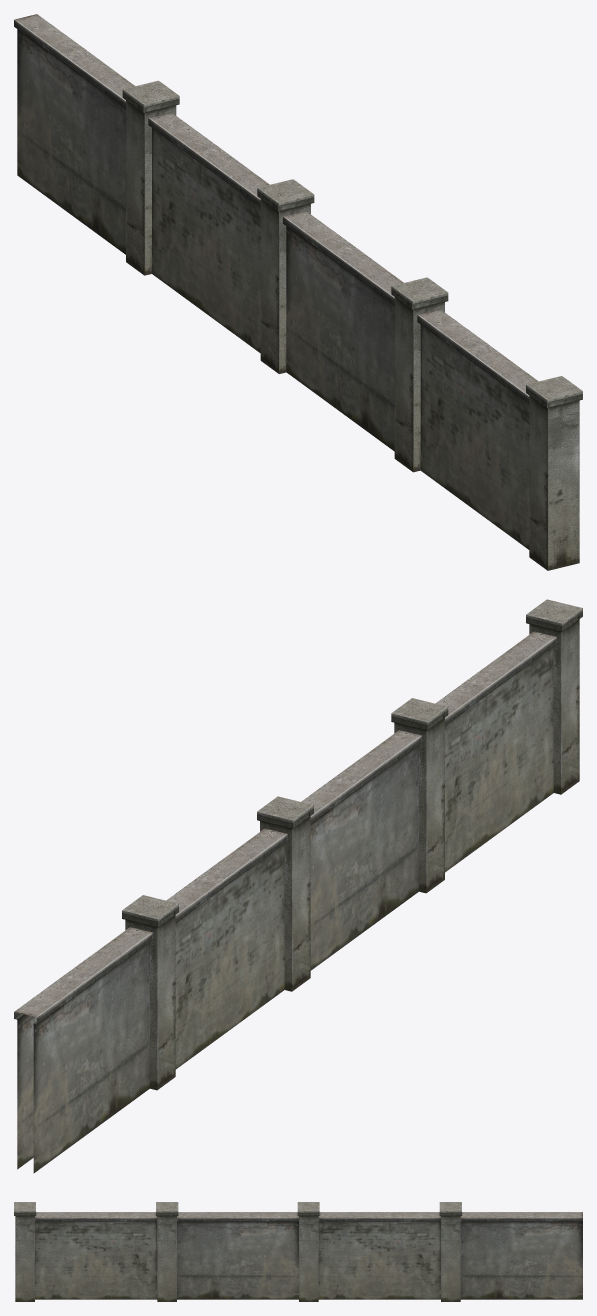
Rendered from Concrete_fence_v1_wall_set_v2 (1).glb.
The picture shows the model from 3 angles, top to bottom: view 1: azimuth 30°, elevation 25°; view 2: azimuth 150°, elevation 25°; view 3: azimuth 270°, elevation 25°; orthographic projection. The views are drawn at different scales.
Visible parts, largest first — view 1: Concrete_fence_v1_wall_set_v2 (1); view 2: Concrete_fence_v1_wall_set_v2 (1); view 3: Concrete_fence_v1_wall_set_v2 (1).
Part boxes in pixels (x1,y1,x2,y2): Concrete_fence_v1_wall_set_v2 (1): (14,14,582,570); Concrete_fence_v1_wall_set_v2 (1): (14,599,582,1173); Concrete_fence_v1_wall_set_v2 (1): (14,1202,582,1301).
Size of the model in its own units: 0.7198 by 3.3 by 18.68.
1 material, 1 textured.
